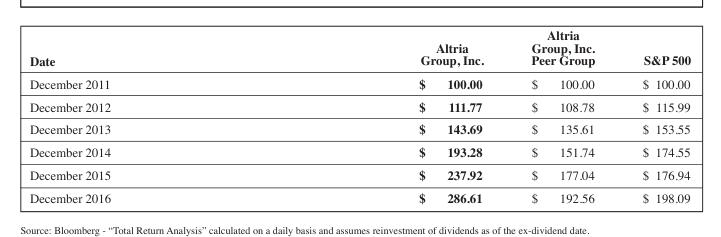table: (28, 29, 690, 205)
table column: (264, 29, 506, 205), (28, 29, 264, 205), (506, 29, 617, 205), (617, 29, 690, 205)
table column header: (28, 29, 690, 72)
table row: (28, 29, 690, 72), (28, 72, 690, 95), (28, 95, 690, 118), (28, 118, 690, 141), (28, 141, 690, 164), (28, 164, 690, 187), (28, 187, 690, 205)
